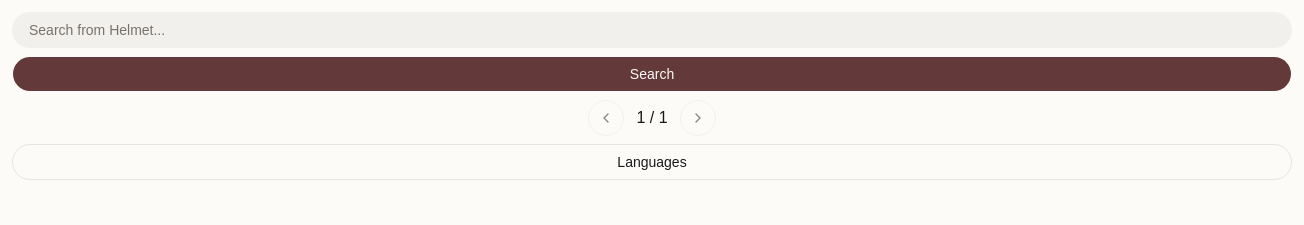
Scenario: shows no books found message when search returns empty
Type "randomquery" into the field with placeholder "Search from Helmet...".
click(652, 30); type("randomquery")  # box [12,12,1292,48]
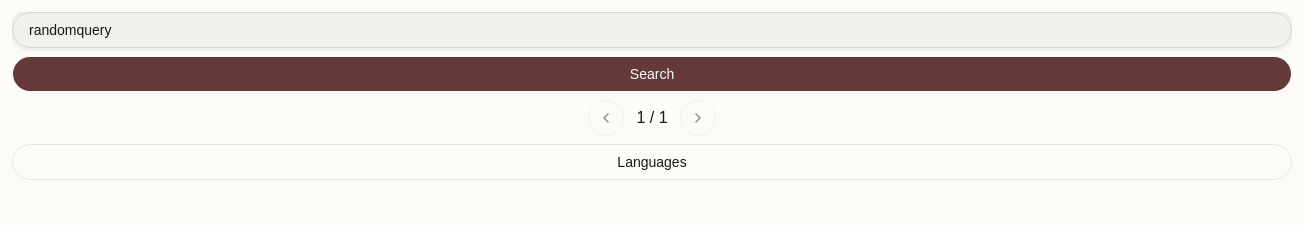
Click the button "Search".
click(652, 74)  # box [12,56,1292,92]
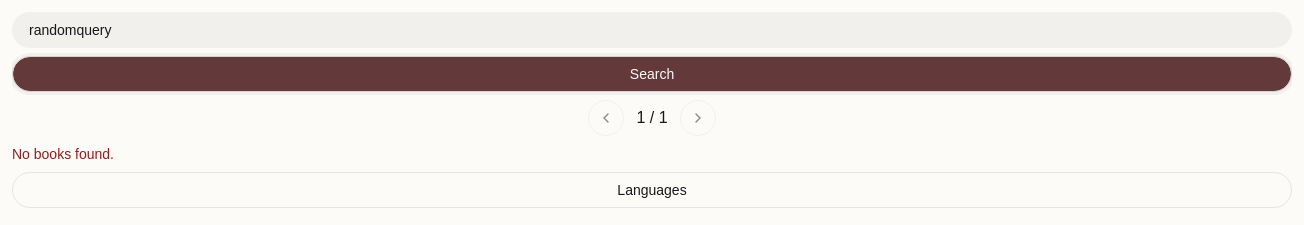
Expected: the text "No books found." is shown, [12,146,114,162]
